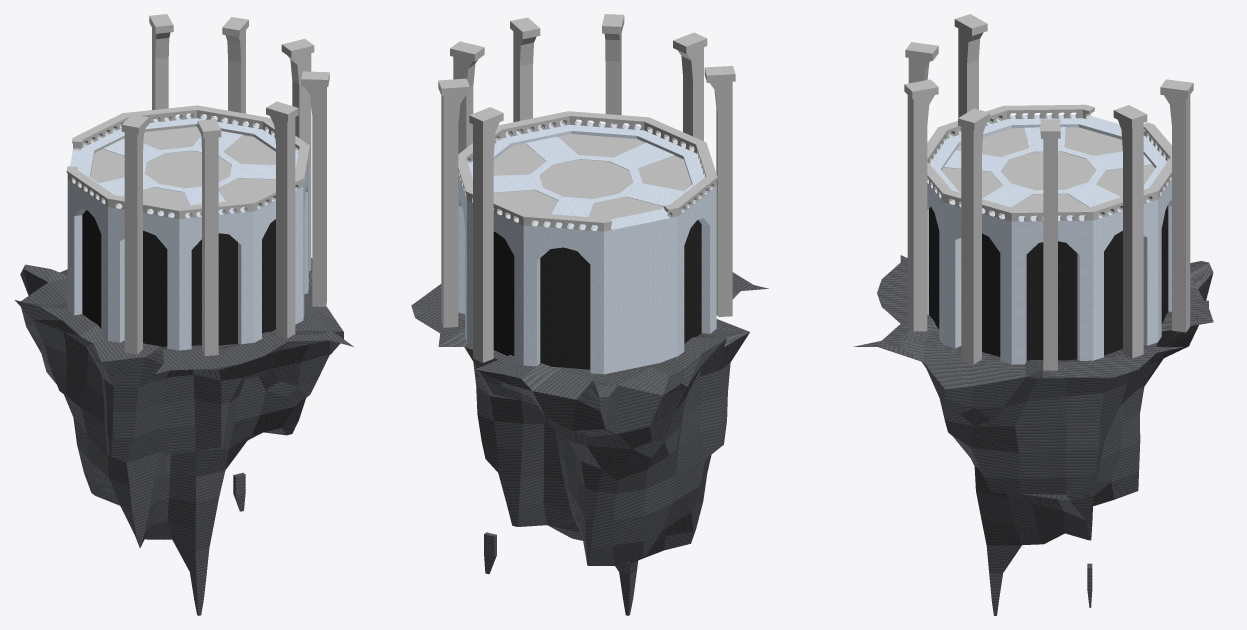
File: EndArea.fbx
3 renders of one model, left to right at view 1: azimuth 30°, elevation 25°; view 2: azimuth 150°, elevation 25°; view 3: azimuth 270°, elevation 25°, orthographic. The views are drawn at different scales.
Parts seen in each view (by area): view 1: Landscape.004, AreaColumn.008, archway.023, AreaColumnGarden.004; view 2: Landscape.004, AreaColumn.008, archway.023, AreaColumnGarden.004; view 3: Landscape.004, AreaColumn.008, archway.023, AreaColumnGarden.004.
Boxes of the visible parts, box(x1,y1,x2,y2) form: Landscape.004: box(15, 258, 353, 615); AreaColumn.008: box(66, 105, 309, 350); archway.023: box(121, 14, 329, 356); AreaColumnGarden.004: box(90, 127, 275, 206); Landscape.004: box(411, 272, 768, 615); AreaColumn.008: box(458, 111, 717, 374); archway.023: box(438, 14, 735, 362); AreaColumnGarden.004: box(493, 134, 691, 219); Landscape.004: box(853, 255, 1213, 615); AreaColumn.008: box(927, 104, 1171, 364); archway.023: box(904, 14, 1193, 370); AreaColumnGarden.004: box(942, 127, 1155, 208).
Bounding box in the file's own units: 7403 × 13880 × 8604.
